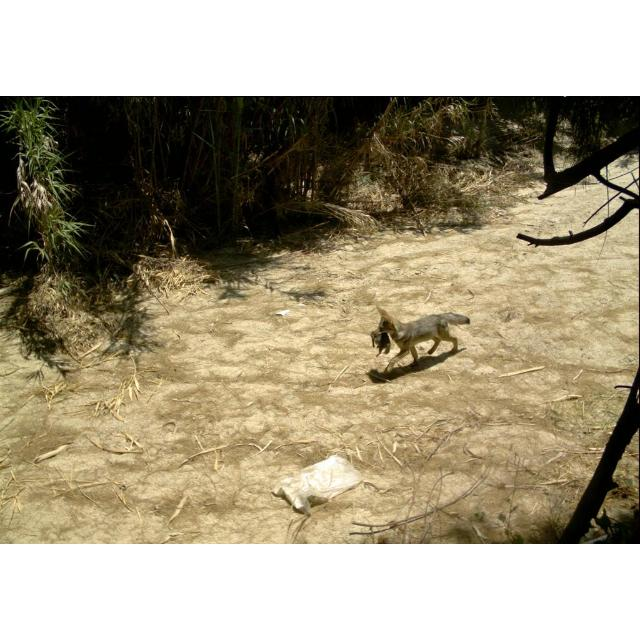animals: (370, 302, 472, 372)
